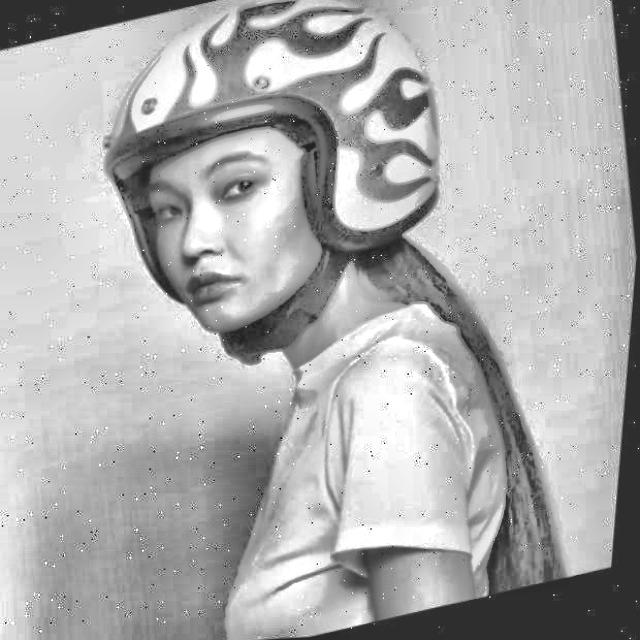Helmet: (54, 0, 498, 410)
